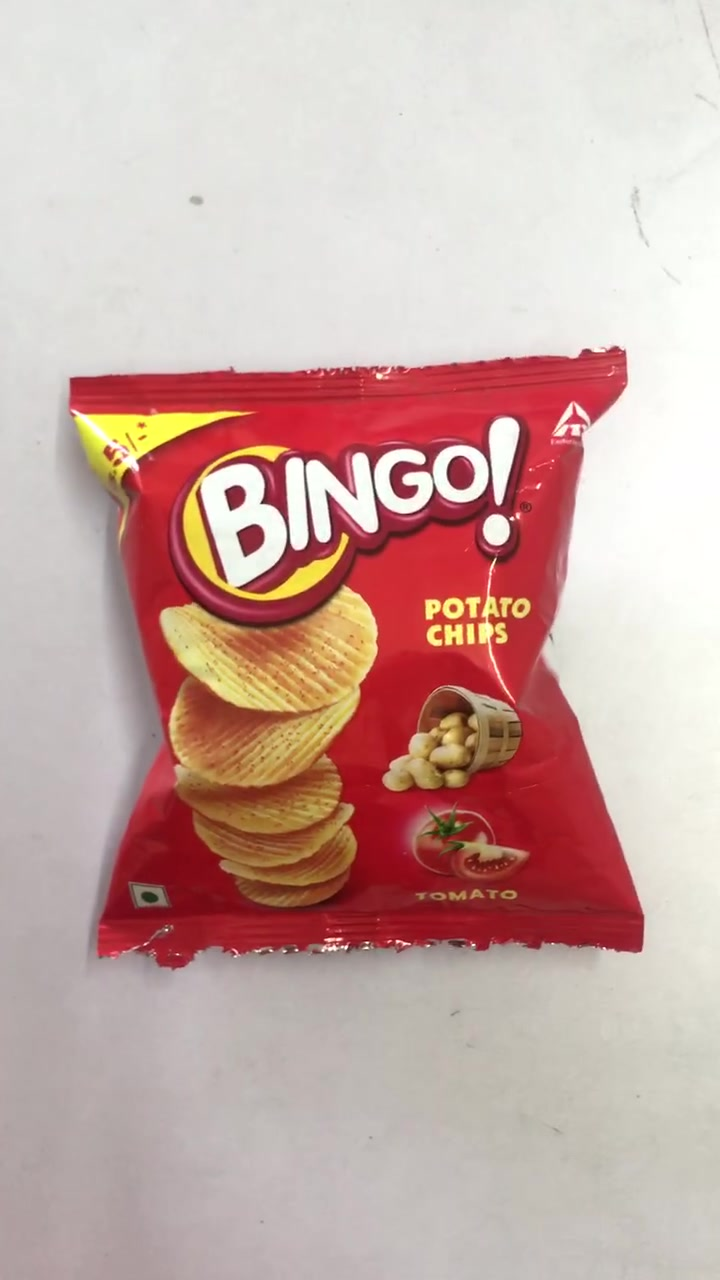Bingo: (73, 366, 645, 952)
